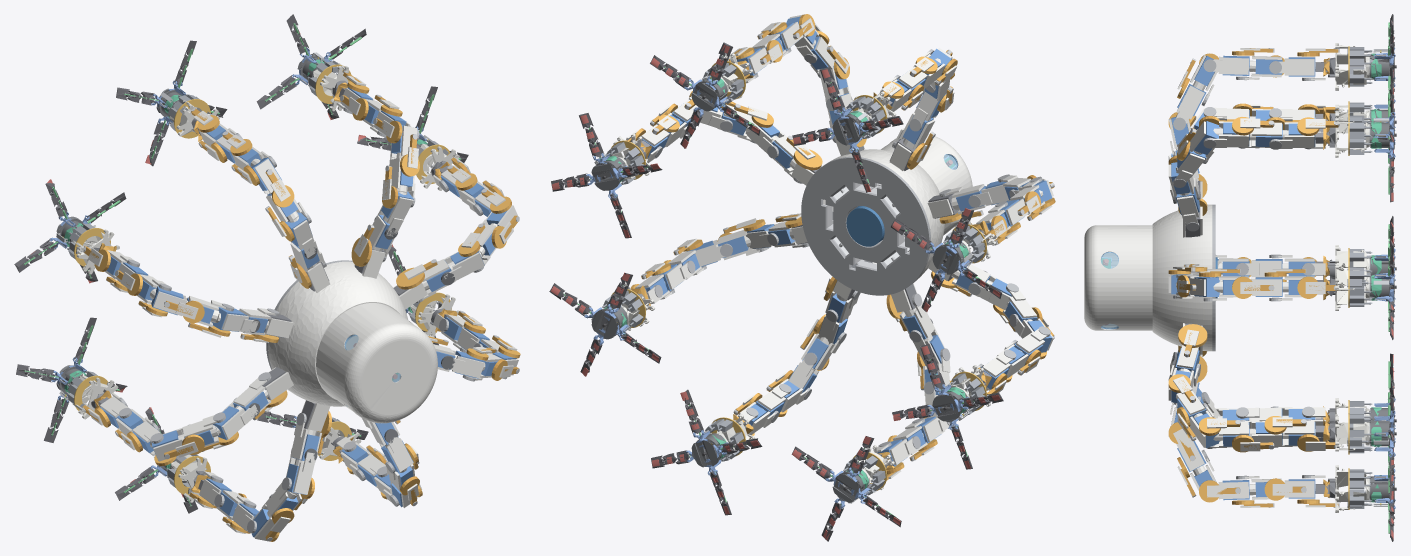
Rendered from cephalo2_s3_stand.glb.
3 views of the same model, side by side, from view 1: azimuth 30°, elevation 25°; view 2: azimuth 150°, elevation 25°; view 3: azimuth 270°, elevation 25° (orthographic).
Parts seen in each view (by area): view 1: arms and hands|c0, turret shell|shell, arms and hands|c7, arms and hands|c3, arms and hands|c14, arms and hands|c11, arms and hands|c4, arms and hands|c12, arms and hands|c6, arms and hands|c10, arms and hands|c2, arms and hands|c17 (+6 smaller); view 2: arms and hands|c0, body|plate, arms and hands|c14, arms and hands|c7, arms and hands|c16, arms and hands|c3, arms and hands|c21, arms and hands|c10, arms and hands|c6, turret shell|shell, arms and hands|c18, arms and hands|c11 (+9 smaller); view 3: arms and hands|c0, turret shell|shell, arms and hands|c7, arms and hands|c3, arms and hands|c10, arms and hands|c11, arms and hands|c4, arms and hands|c6, arms and hands|c16, arms and hands|c18, arms and hands|c14, arms and hands|c15 (+9 smaller).
Boxes of the visible parts, x1=… form: arms and hands|c0: x1=88, y1=75, x2=518, y2=541; turret shell|shell: x1=268, y1=261, x2=437, y2=423; arms and hands|c7: x1=100, y1=87, x2=516, y2=537; arms and hands|c3: x1=94, y1=81, x2=520, y2=540; arms and hands|c14: x1=14, y1=14, x2=468, y2=513; arms and hands|c11: x1=72, y1=63, x2=459, y2=502; arms and hands|c4: x1=83, y1=71, x2=518, y2=539; arms and hands|c12: x1=74, y1=64, x2=451, y2=495; arms and hands|c6: x1=118, y1=107, x2=506, y2=533; arms and hands|c10: x1=66, y1=60, x2=448, y2=493; arms and hands|c2: x1=95, y1=85, x2=520, y2=541; arms and hands|c17: x1=23, y1=23, x2=461, y2=506; arms and hands|c0: x1=626, y1=14, x2=1053, y2=478; body|plate: x1=801, y1=156, x2=930, y2=295; arms and hands|c14: x1=549, y1=42, x2=1003, y2=541; arms and hands|c7: x1=641, y1=16, x2=1052, y2=466; arms and hands|c16: x1=591, y1=81, x2=968, y2=502; arms and hands|c3: x1=630, y1=14, x2=1054, y2=474; arms and hands|c21: x1=551, y1=44, x2=1000, y2=539; arms and hands|c10: x1=602, y1=63, x2=985, y2=495; arms and hands|c6: x1=653, y1=48, x2=1050, y2=448; turret shell|shell: x1=823, y1=134, x2=972, y2=282; arms and hands|c18: x1=584, y1=76, x2=969, y2=508; arms and hands|c11: x1=611, y1=53, x2=996, y2=492; arms and hands|c0: x1=1168, y1=48, x2=1325, y2=507; turret shell|shell: x1=1084, y1=204, x2=1212, y2=351; arms and hands|c7: x1=1171, y1=55, x2=1315, y2=500; arms and hands|c3: x1=1168, y1=51, x2=1319, y2=504; arms and hands|c10: x1=1347, y1=47, x2=1374, y2=508; arms and hands|c11: x1=1335, y1=43, x2=1369, y2=512; arms and hands|c4: x1=1177, y1=48, x2=1338, y2=507; arms and hands|c6: x1=1173, y1=59, x2=1314, y2=479; arms and hands|c16: x1=1370, y1=52, x2=1394, y2=503; arms and hands|c18: x1=1374, y1=47, x2=1395, y2=509; arms and hands|c14: x1=1388, y1=14, x2=1394, y2=541; arms and hands|c15: x1=1371, y1=53, x2=1381, y2=502.
Bounding box in the file's own units: 0.8832 × 0.8832 × 0.5321.
